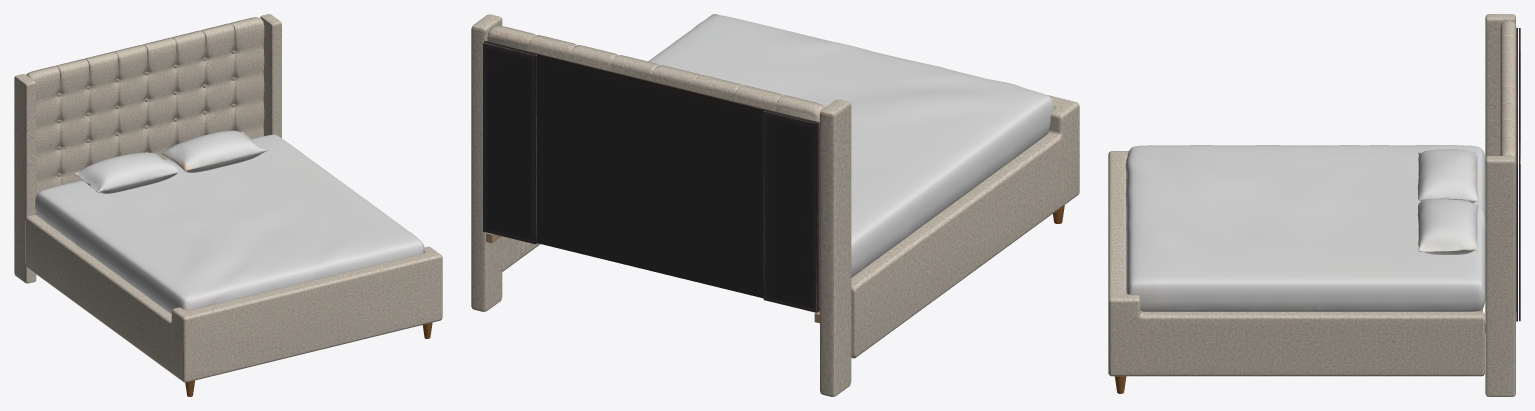
File: B075QDMWTP.glb
The picture shows the model from 3 angles, left to right: view 1: azimuth 30°, elevation 25°; view 2: azimuth 150°, elevation 25°; view 3: azimuth 270°, elevation 25°; orthographic projection. The views are drawn at different scales.
Parts seen in each view (by area): view 1: RootNode; view 2: RootNode; view 3: RootNode.
Part boxes in pixels (left/top/right/bottom): RootNode: left=14, top=14, right=442, bottom=396; RootNode: left=471, top=14, right=1079, bottom=396; RootNode: left=1108, top=14, right=1520, bottom=396.
Bounding box in the file's own units: 2.04 × 1.52 × 2.38.
Materials: 1 (1 with a texture image).
